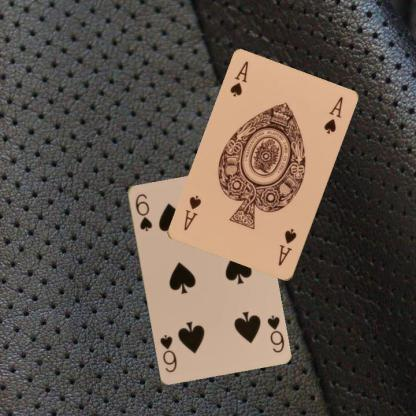6s: (264, 312, 285, 354), (132, 191, 153, 232)
As: (227, 58, 250, 99), (276, 226, 298, 267)
